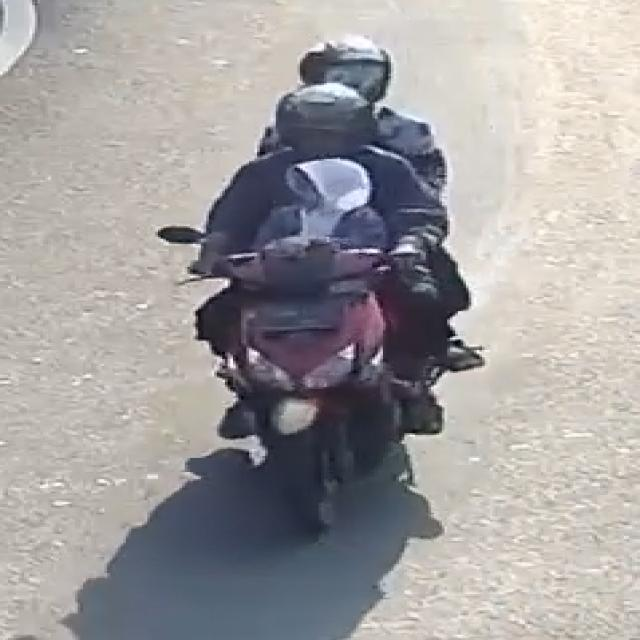helm: (247, 78, 402, 156), (280, 33, 422, 102)
motor: (157, 31, 486, 542)
spion: (346, 192, 464, 260), (155, 216, 247, 276)
